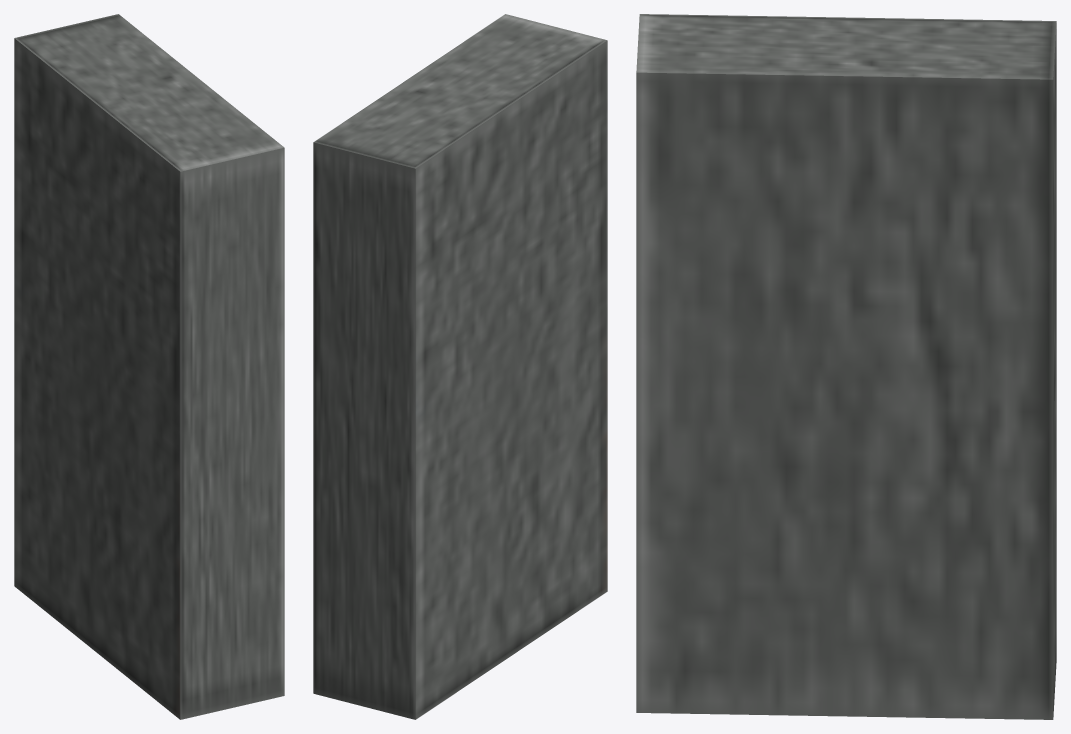
The model's file is brick6.fbx.
The picture shows the model from 3 angles, left to right: view 1: azimuth 30°, elevation 25°; view 2: azimuth 150°, elevation 25°; view 3: azimuth 270°, elevation 25°; orthographic projection. The views are drawn at different scales.
Parts seen in each view (by area): view 1: polySurface253; view 2: polySurface253; view 3: polySurface253.
Boxes of the visible parts, left/top/right/bottom form: polySurface253: left=14, top=14, right=284, bottom=719; polySurface253: left=313, top=14, right=607, bottom=719; polySurface253: left=636, top=14, right=1056, bottom=719.
Bounding box in the file's own units: 0.4 × 1.82 × 1.08.
Materials: 1 (1 with a texture image).
